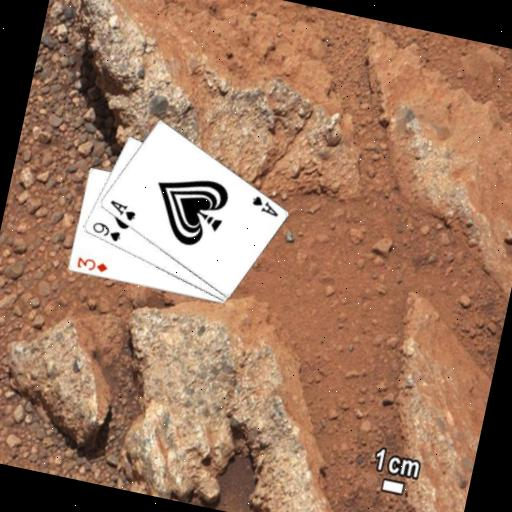3D: (73, 253, 110, 275)
9S: (87, 217, 124, 244)
AS: (246, 191, 282, 219), (103, 196, 139, 223)
